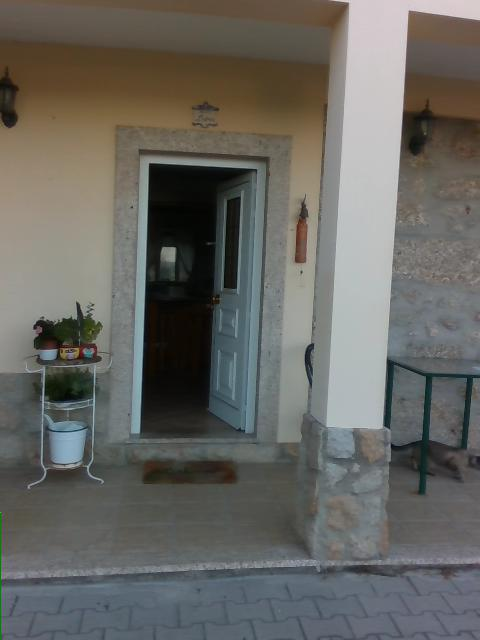open_door: (131, 147, 269, 442)
